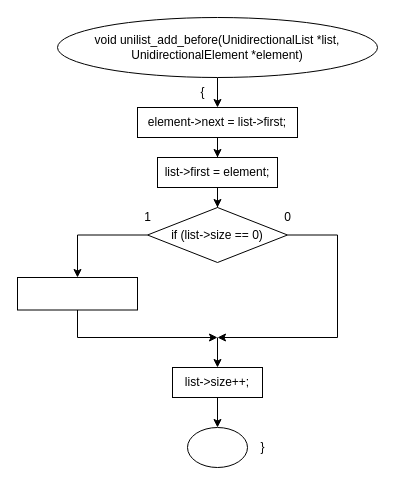
Some shapes in this 395 by 485 pixel diagram are drawn without their labels. Each missing label, with the box of its shape:
list->last = element;: (16, 276, 138, 310)
return;: (186, 426, 248, 468)
